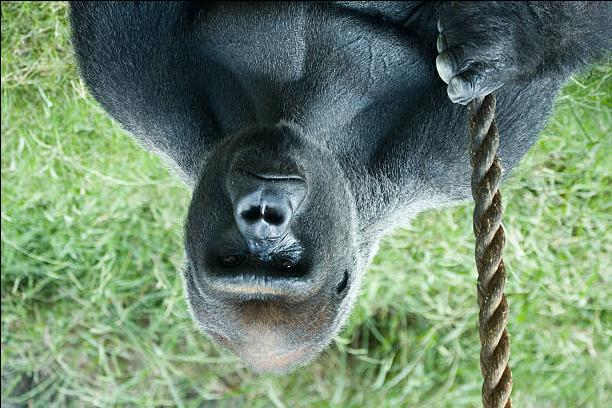gorille_Autres: (72, 2, 556, 373)
